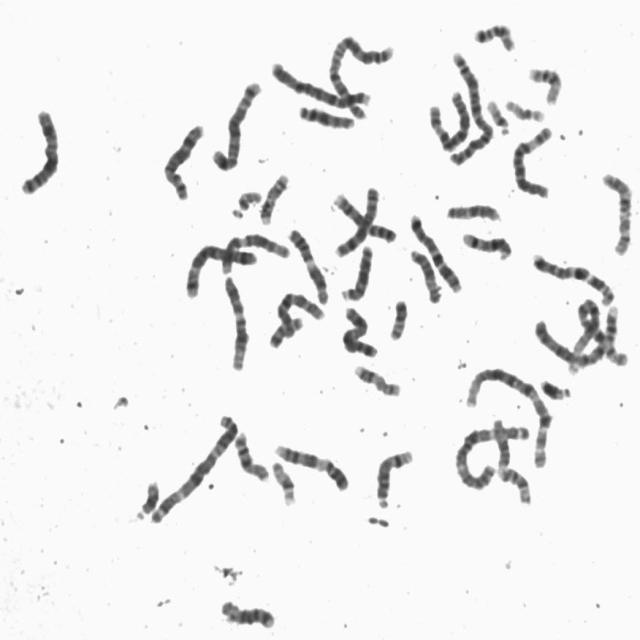A1: (460, 360, 556, 470), (558, 292, 633, 382)
A2: (443, 46, 498, 166), (323, 29, 397, 117)
A3: (147, 407, 242, 525), (451, 418, 533, 492)
B4: (266, 56, 373, 116), (529, 304, 627, 366)
B5: (208, 73, 265, 172), (181, 239, 260, 300)
C10: (268, 284, 328, 351), (598, 165, 636, 258)
C11: (486, 410, 534, 508), (284, 222, 332, 306)
C12: (215, 227, 293, 275), (220, 270, 253, 372)
C6: (508, 120, 558, 200), (426, 84, 474, 152)
C7: (528, 246, 620, 308), (406, 208, 466, 294)
C8: (159, 117, 208, 202), (329, 188, 399, 245)
C9: (271, 437, 353, 492), (330, 181, 385, 262)
D13: (338, 239, 376, 302), (294, 105, 356, 134)
D14: (372, 443, 417, 510), (459, 226, 516, 262)
D15: (407, 243, 445, 304), (443, 197, 504, 223)
E16: (231, 425, 272, 483), (524, 60, 565, 106)
E17: (350, 358, 404, 398), (256, 167, 292, 227)
E18: (217, 593, 278, 631), (469, 22, 517, 52)
F19: (268, 455, 300, 507), (502, 93, 548, 123)
F20: (268, 315, 306, 351), (386, 293, 411, 342)
G21: (131, 474, 163, 522), (536, 372, 574, 401)
G22: (484, 93, 513, 137), (234, 184, 264, 213)
X: (17, 102, 64, 196), (338, 300, 382, 359)
